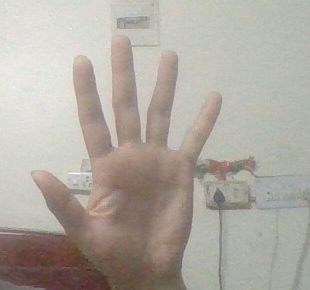move: (23, 36, 231, 290)
